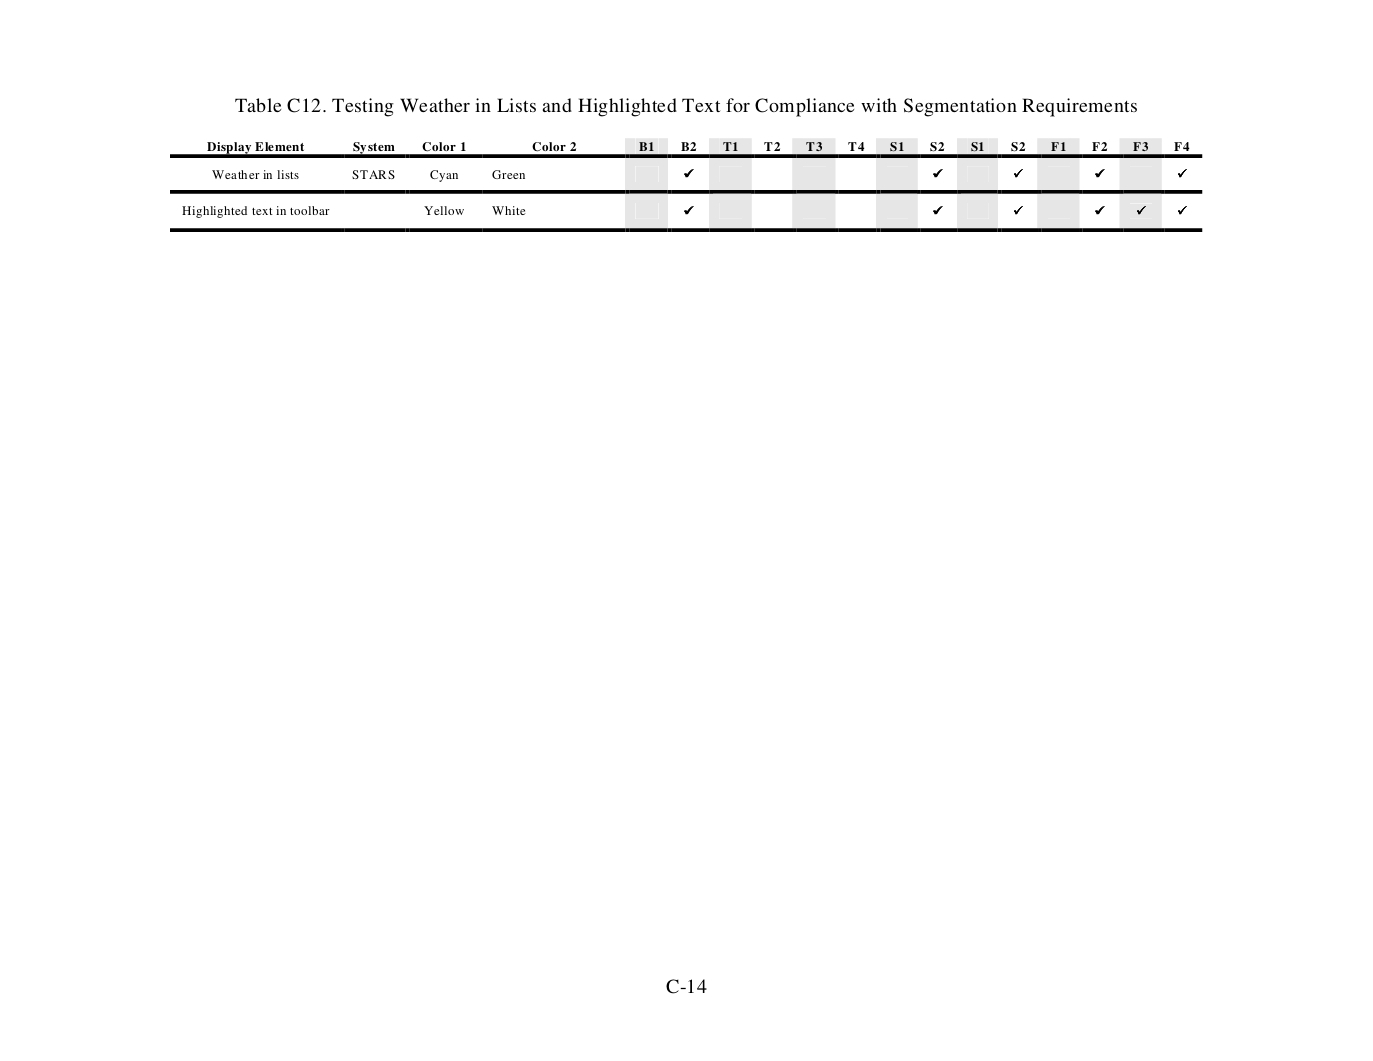Table: (171, 137, 1202, 232)
